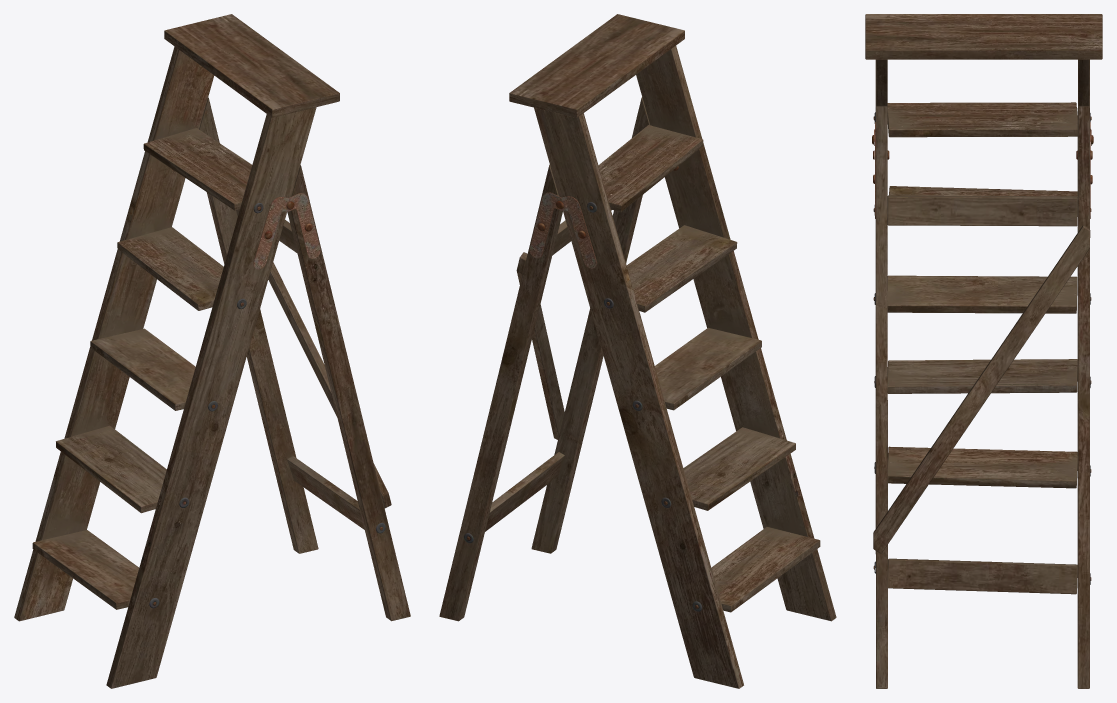
The model's file is wooden-ladder-02.glb.
3 renders of one model, left to right at view 1: azimuth 30°, elevation 25°; view 2: azimuth 150°, elevation 25°; view 3: azimuth 270°, elevation 25°, orthographic. The views are drawn at different scales.
Visible parts, largest first — view 1: wooden_ladder_02; view 2: wooden_ladder_02; view 3: wooden_ladder_02.
Part boxes in pixels (x1,y1,x2,y2): wooden_ladder_02: [14, 14, 410, 688]; wooden_ladder_02: [439, 14, 836, 688]; wooden_ladder_02: [865, 14, 1102, 688].
Size of the model in its own units: 0.9895 by 1.72 by 0.6181.
Materials: 1 (1 with a texture image).
